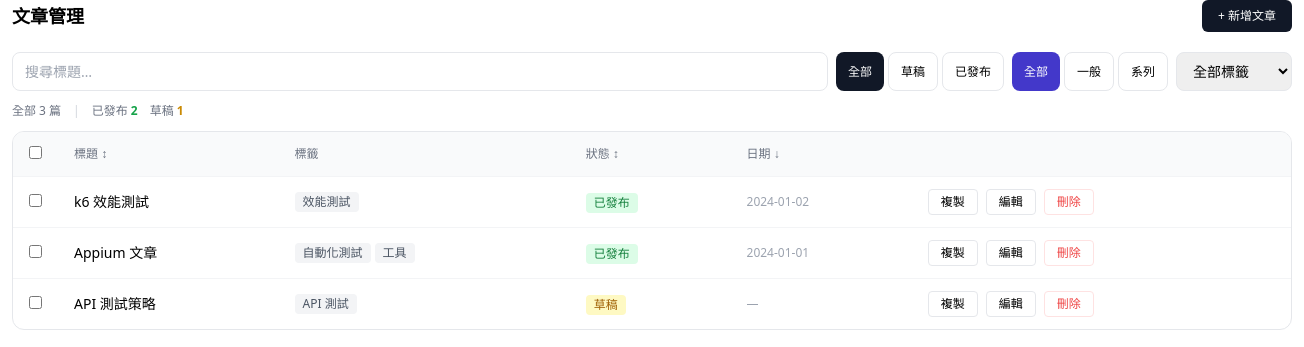
Scenario: AdminPosts — search and filter › filters posts by draft status
Expected: the text "Appium 文章" is shown, [58,228,278,278]
Step 1. Click the 1st button "草稿" → coordinates (913, 72), box [888,52,938,91]
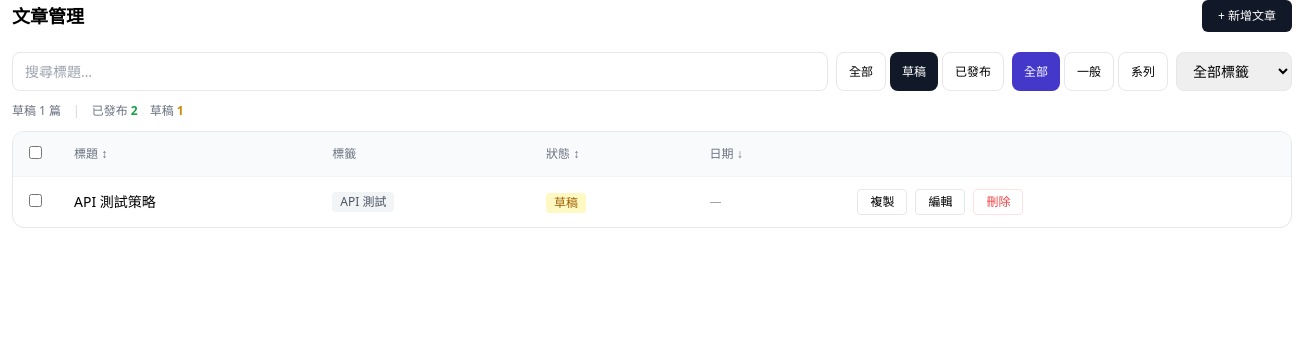
Expected: the text "API 測試策略" is shown, [58,176,316,227]
Now the text "Appium 文章" is gone
